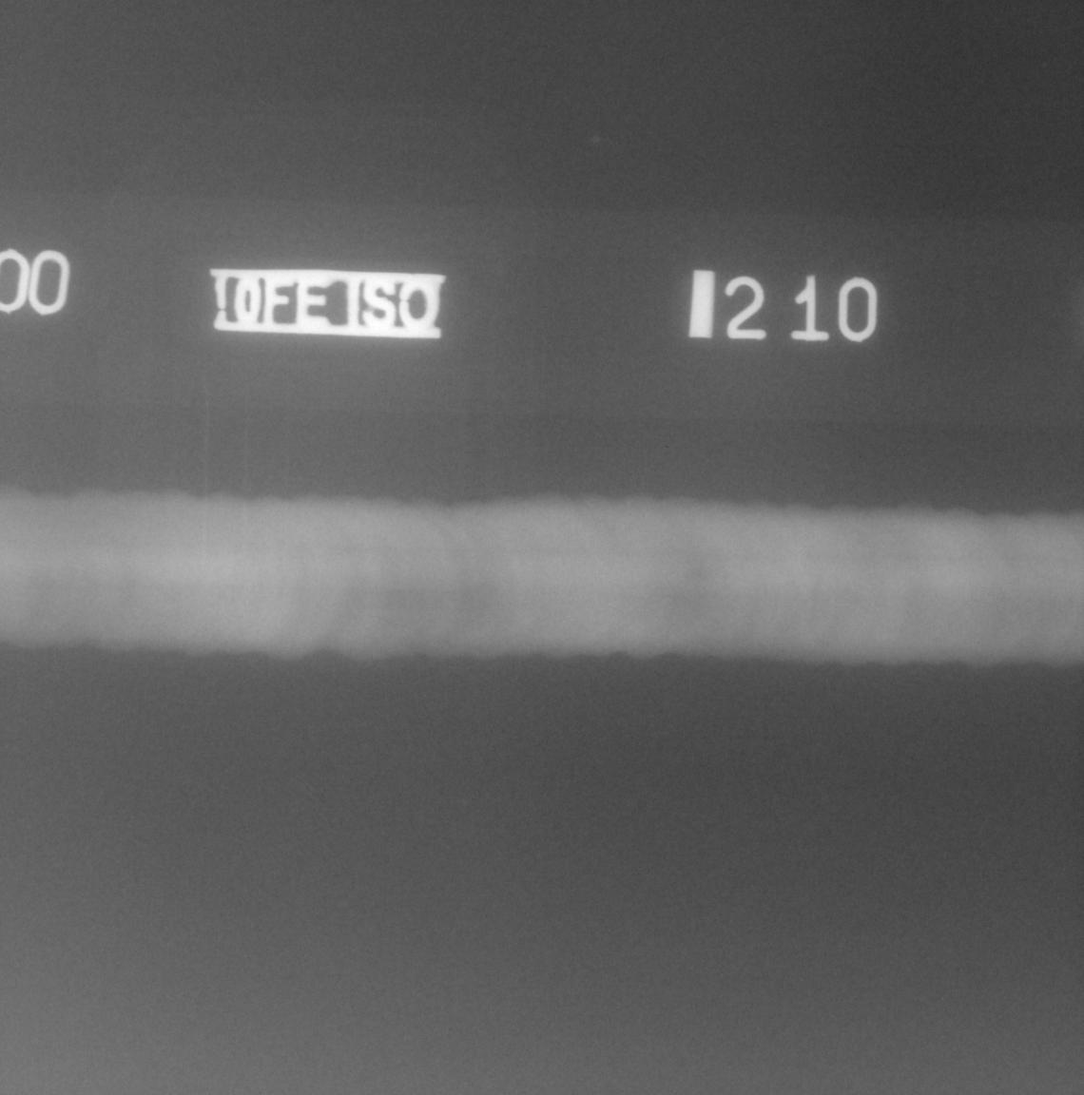Inclusion: (678, 551, 722, 592)
